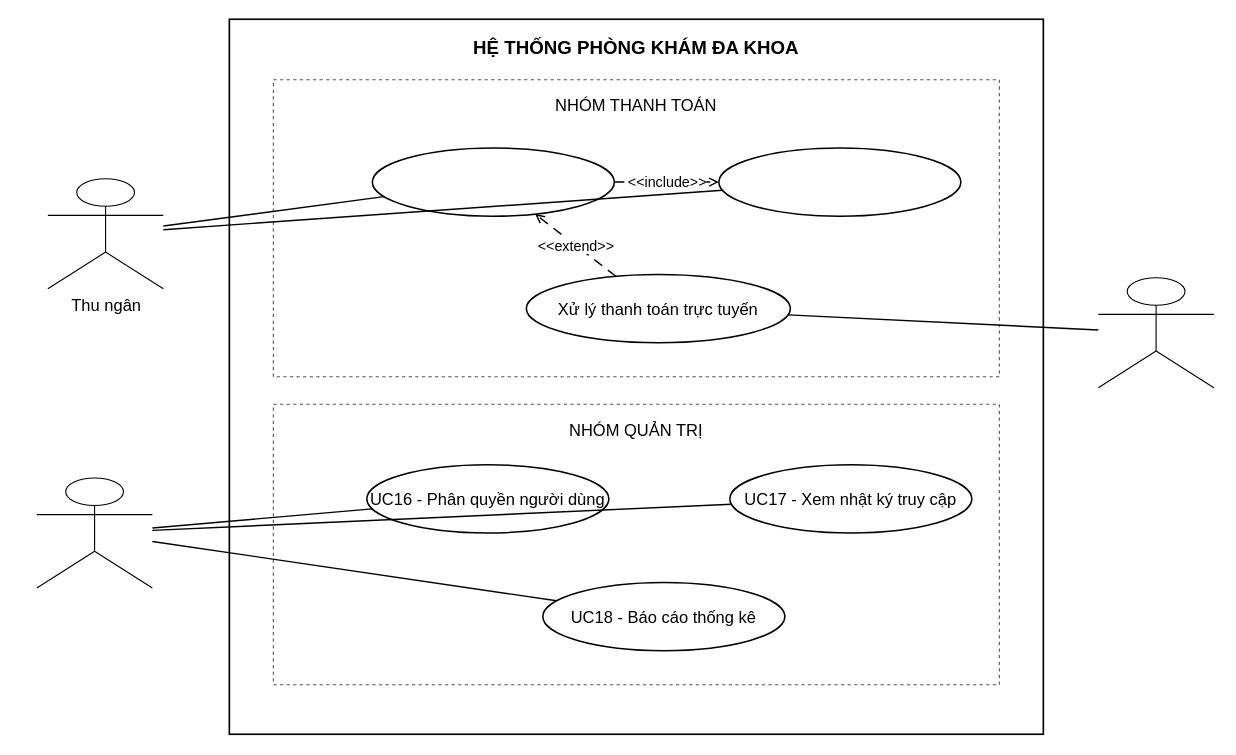
Some shapes in this 1236 by 755 pixel diagram are drawn without their labels. Here are the shapes that lost their labels. From the top down, the centre of each, then its label:
point 493,181: UC13 - Thanh toán
point 839,181: UC14 - Xuất hóa đơn
point 1155,332: Cổng thanh toán
point 94,532: Quản lý phòng khám
